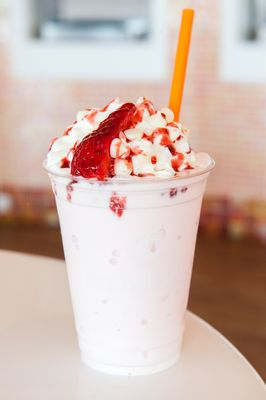pizza: (43, 96, 216, 375)
